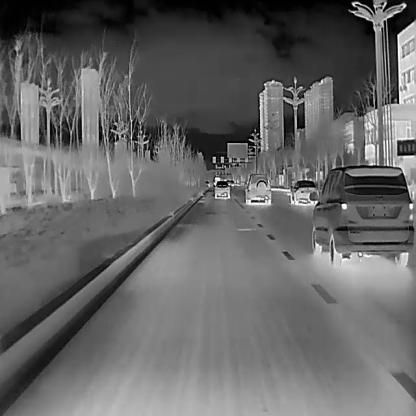car: (308, 163, 413, 266), (244, 172, 270, 203), (289, 180, 318, 204), (213, 180, 230, 198)
